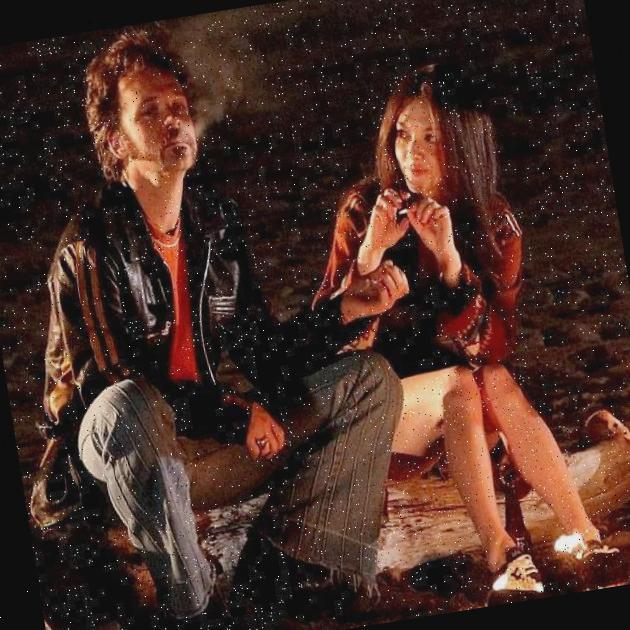smoke: (176, 8, 258, 133)
